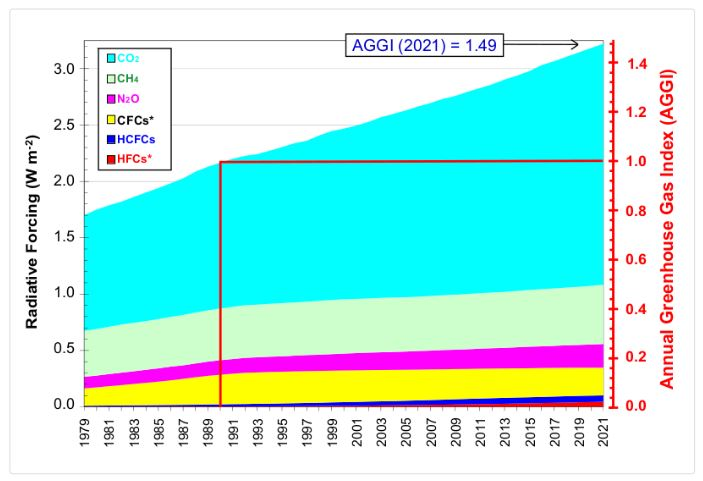

The dashboard page shown, as its layout file describes it:
{"tool":"tableau","page":{"name":"Dashboard 1","canvas":[500,800],"ordinal":0},"visuals":[{"type":"worksheet","title":"Sheet 1","mark":"Automatic","rows":["Pivot Field Names","Calculation_774619159297060866","Calculation_774619159299481604"],"cols":["Year"],"box":[16.5,33,481.5,762]}]}

Visuals, with their boxes on the page's 500x800 design canvas (x1, y1, x2, y2). These are canvas units, not pixel positions in the 703x481 screenshot, which may show the page scaled, cropped or inside an application window:
"Sheet 1" worksheet: pyautogui.locateOnScreen(16, 33, 498, 795)
